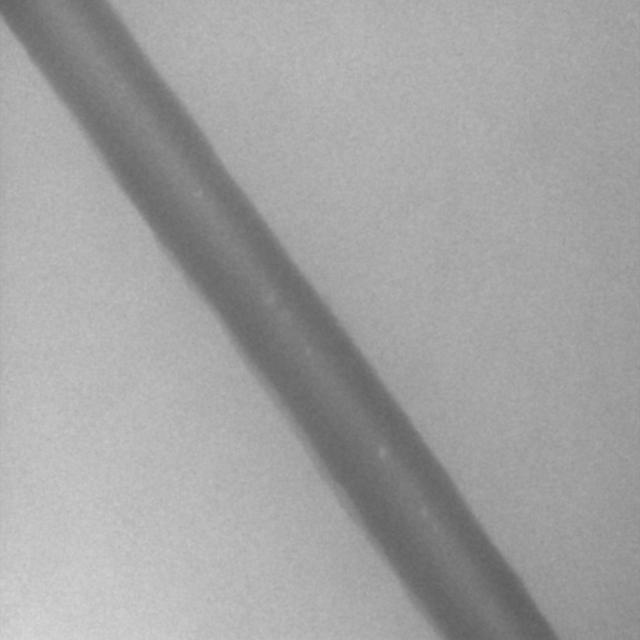air hole: (375, 443, 388, 459)
